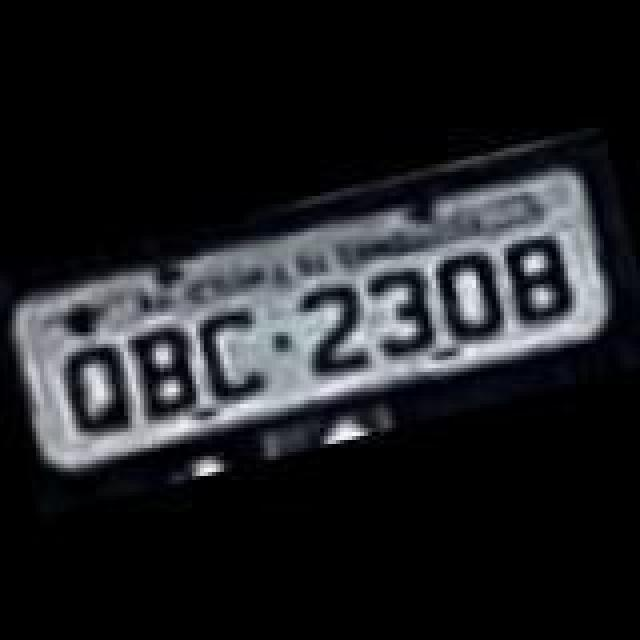2: (288, 274, 384, 382)
3: (362, 260, 446, 364)
8: (496, 220, 584, 332)
B: (116, 322, 204, 430)
C: (190, 298, 274, 406)
O: (428, 242, 508, 350)
Q: (50, 332, 142, 444)
